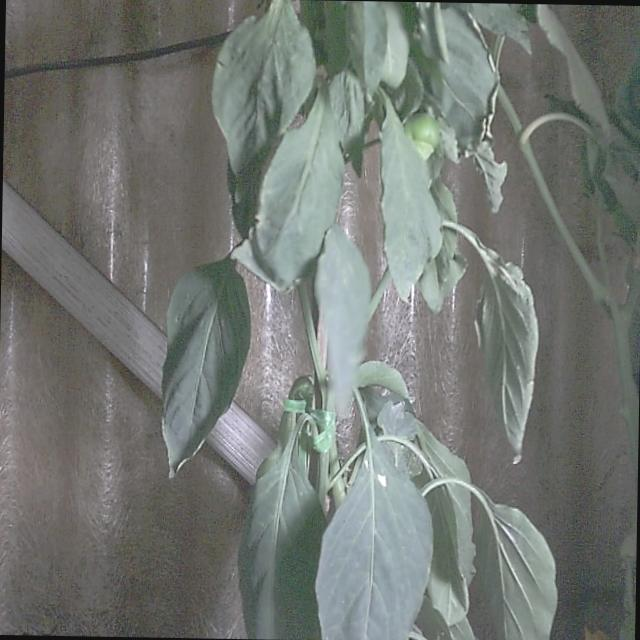Leaf: (316, 435, 432, 639), (233, 92, 343, 290), (163, 258, 250, 475), (212, 0, 315, 173), (238, 438, 325, 639), (381, 97, 441, 300), (476, 502, 557, 639), (315, 226, 370, 411), (346, 1, 387, 95)
